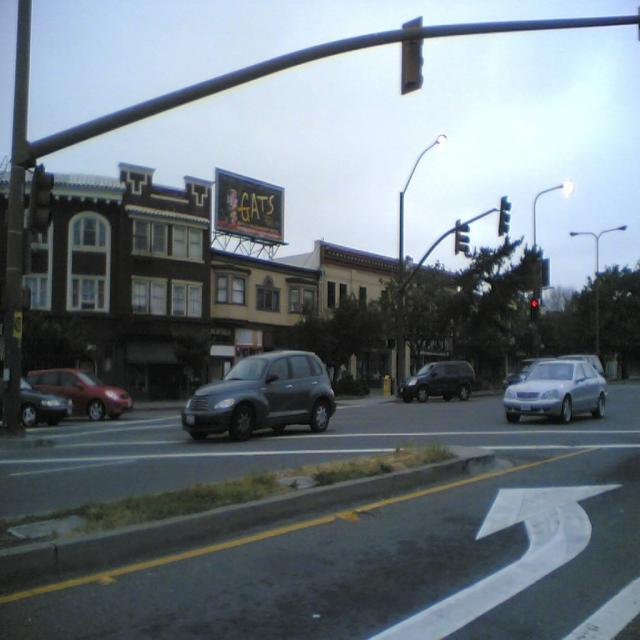off traffic light: (498, 196, 512, 236)
